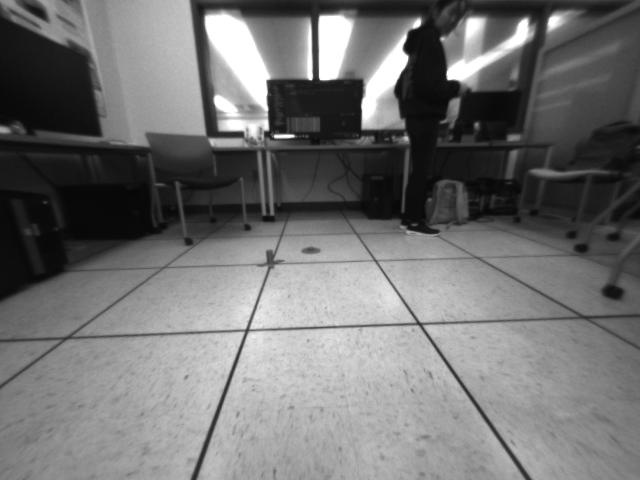X: (256, 249, 286, 269)
